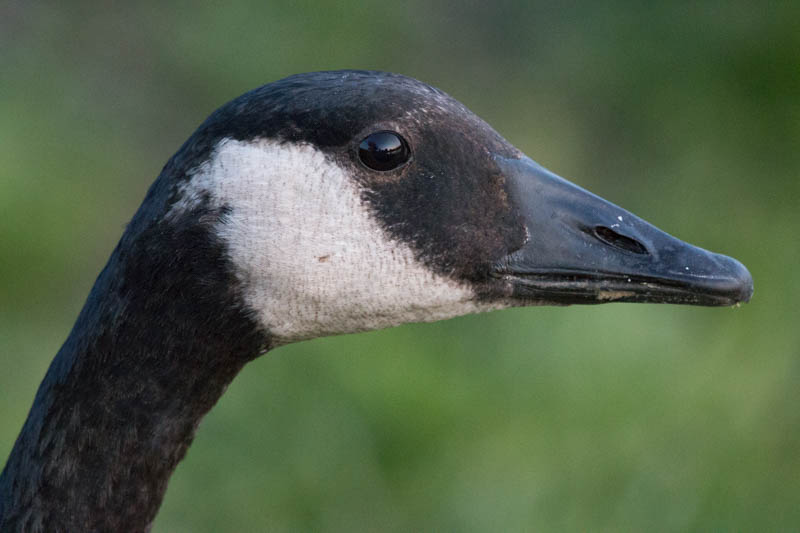goose-head: (138, 69, 755, 352)
